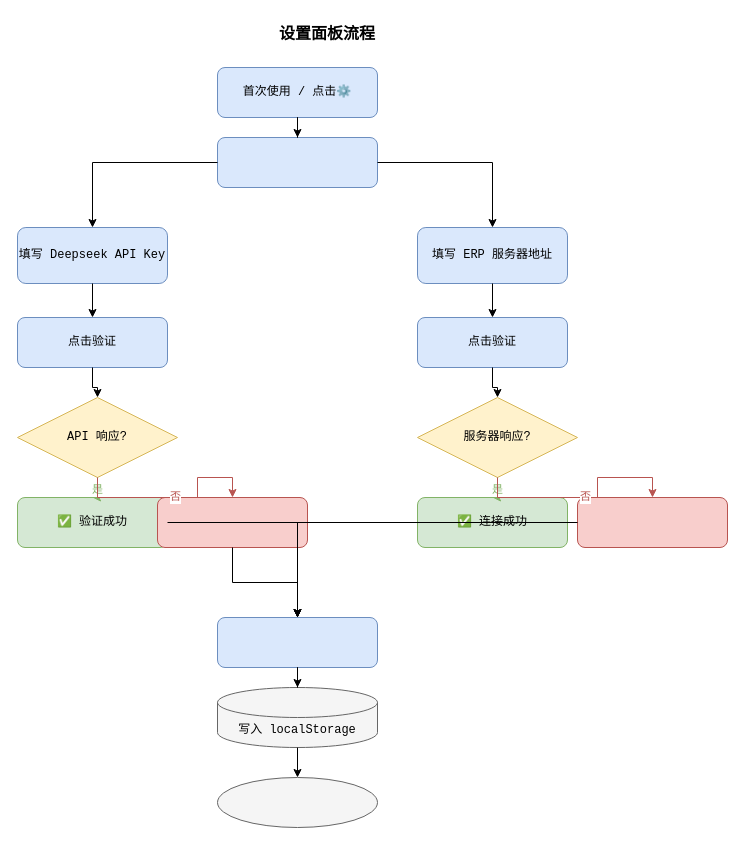
The diagram is 745 pixels wide and 845 high, and some of its shapes have lost their labels. The centre of each missing label's shape, as x and y in pixels:
"❌ 连接失败" belongs at (x=652, y=522).
"❌ 验证失败" belongs at (x=232, y=522).
"关闭弹窗" belongs at (x=297, y=802).
"打开设置模态弹窗" belongs at (x=297, y=162).
"用户点击保存" belongs at (x=297, y=642).
